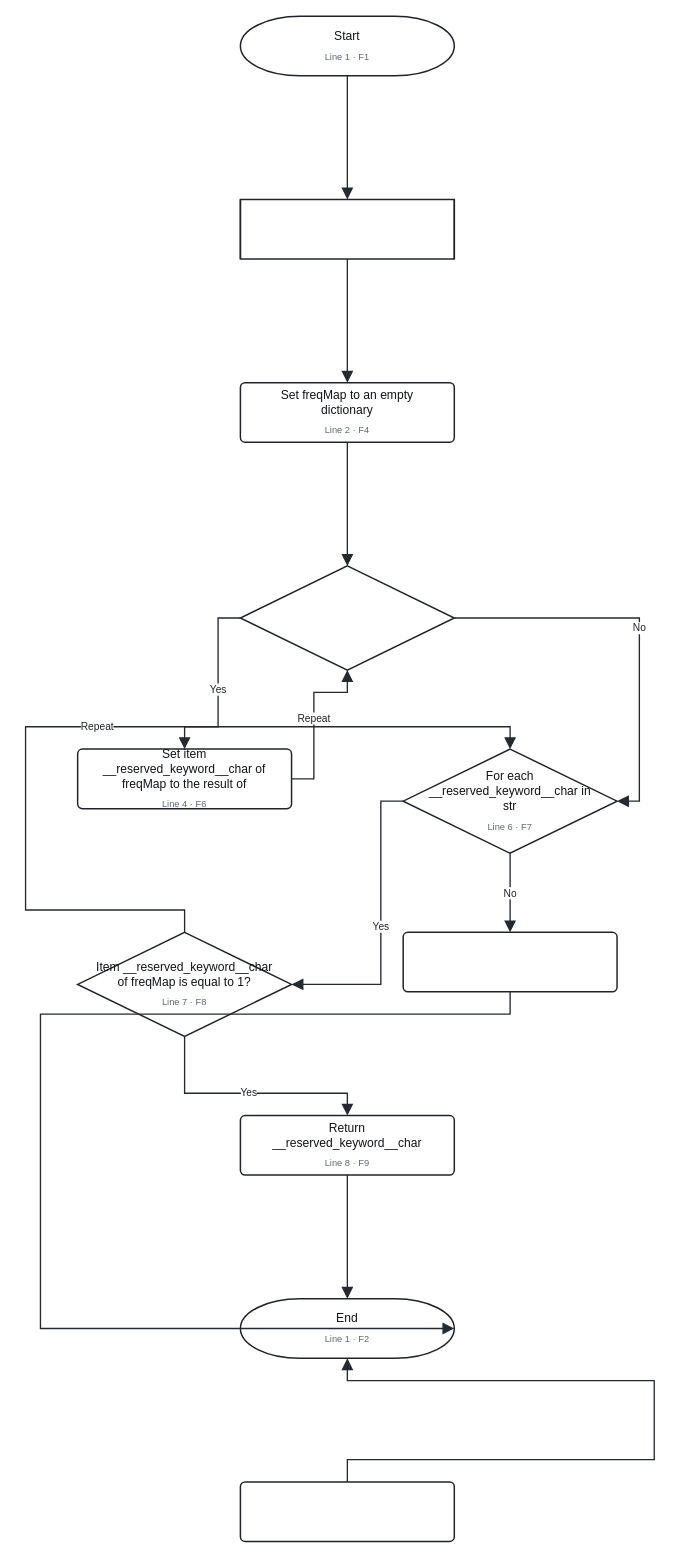
Image size: 682x1559. Some labels were removed from this diagram. Each missing label, with the box of its shape:
For each __reserved_keyword__char in str Line 3 · F5: (239, 565, 455, 670)
or special character Line 12 · F11: (239, 1481, 455, 1542)
Return NULL Line 11 · F10: (402, 931, 617, 992)
Run function firstNonRepeating with str Line 1 · F3: (239, 198, 455, 259)
